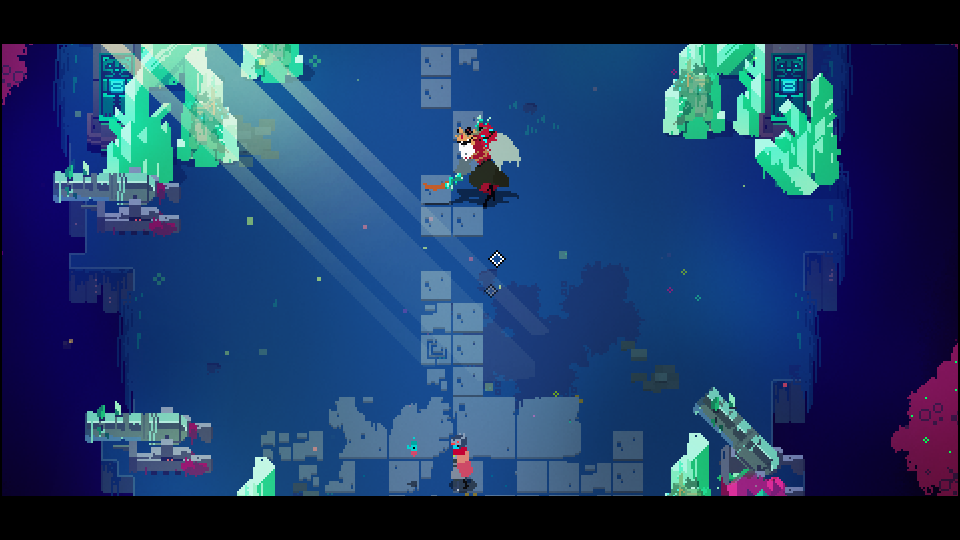hanged_man: (435, 112, 529, 206), (446, 430, 476, 493)
